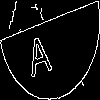A: (25, 25, 53, 78)
